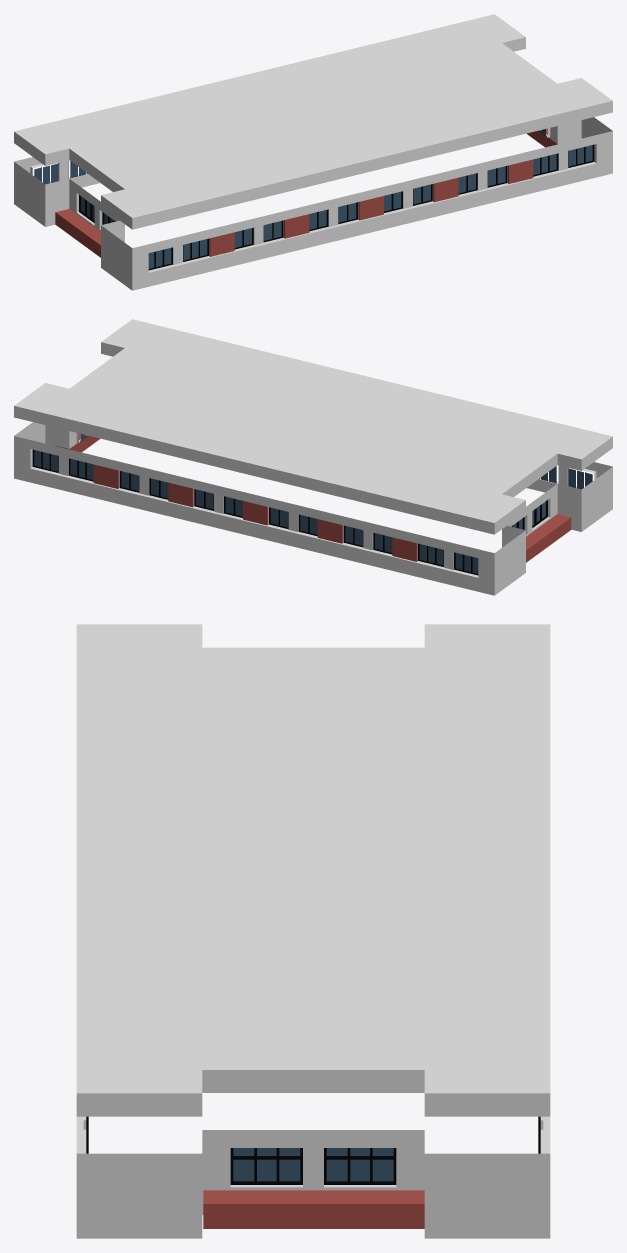
The model's file is Apt9_Base.fbx.
3 renders of one model, top to bottom at view 1: azimuth 30°, elevation 25°; view 2: azimuth 150°, elevation 25°; view 3: azimuth 270°, elevation 25°, orthographic. The views are drawn at different scales.
Visible parts, largest first — view 1: Apt9_Base_Roof, Apt9_Base_Main, Apt9_Base_Windows, Apt9_Base_Middle, Apt9_Base_Frame, Apt9_Base_Border; view 2: Apt9_Base_Roof, Apt9_Base_Main, Apt9_Base_Windows, Apt9_Base_Middle, Apt9_Base_Frame, Apt9_Base_Border; view 3: Apt9_Base_Roof, Apt9_Base_Main, Apt9_Base_Border, Apt9_Base_Windows, Apt9_Base_Frame.
Part boxes in pixels (left/top/right/bottom): Apt9_Base_Roof: left=14, top=14, right=612, bottom=229; Apt9_Base_Main: left=14, top=117, right=612, bottom=290; Apt9_Base_Windows: left=34, top=129, right=592, bottom=268; Apt9_Base_Middle: left=209, top=159, right=533, bottom=256; Apt9_Base_Frame: left=41, top=131, right=594, bottom=270; Apt9_Base_Border: left=55, top=128, right=557, bottom=257; Apt9_Base_Roof: left=14, top=319, right=612, bottom=534; Apt9_Base_Main: left=14, top=422, right=612, bottom=595; Apt9_Base_Windows: left=34, top=434, right=592, bottom=573; Apt9_Base_Middle: left=93, top=464, right=417, bottom=561; Apt9_Base_Frame: left=32, top=436, right=585, bottom=575; Apt9_Base_Border: left=55, top=433, right=571, bottom=562; Apt9_Base_Roof: left=76, top=624, right=550, bottom=1116; Apt9_Base_Main: left=76, top=1116, right=550, bottom=1238; Apt9_Base_Border: left=203, top=1190, right=424, bottom=1228; Apt9_Base_Windows: left=233, top=1148, right=393, bottom=1181; Apt9_Base_Frame: left=86, top=1116, right=540, bottom=1184.
Size of the model in its own units: 3509 by 507 by 1497.
